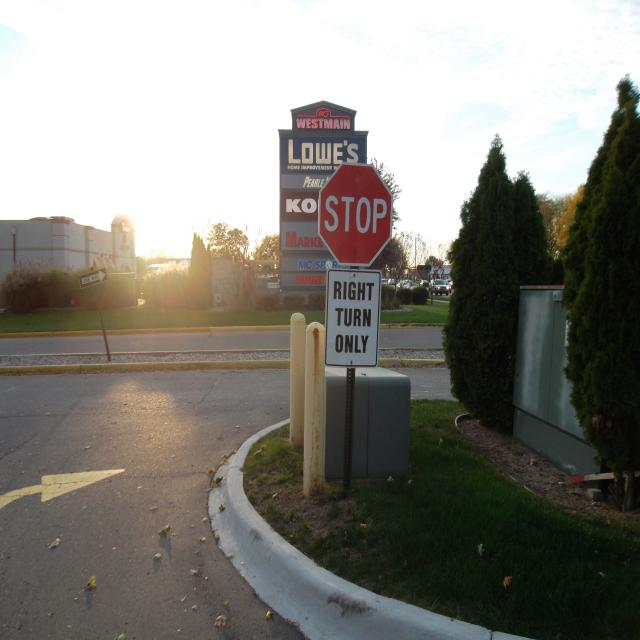regulatory: (322, 267, 386, 371)
stop: (317, 160, 396, 267)
